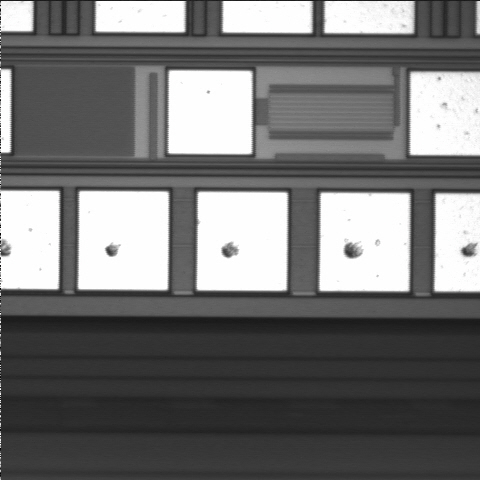pad: (78, 191, 168, 290), (197, 192, 287, 291), (320, 193, 410, 291), (169, 71, 252, 154)
